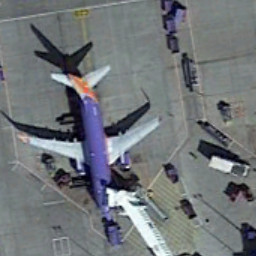Airplane: (10, 55, 164, 218)
